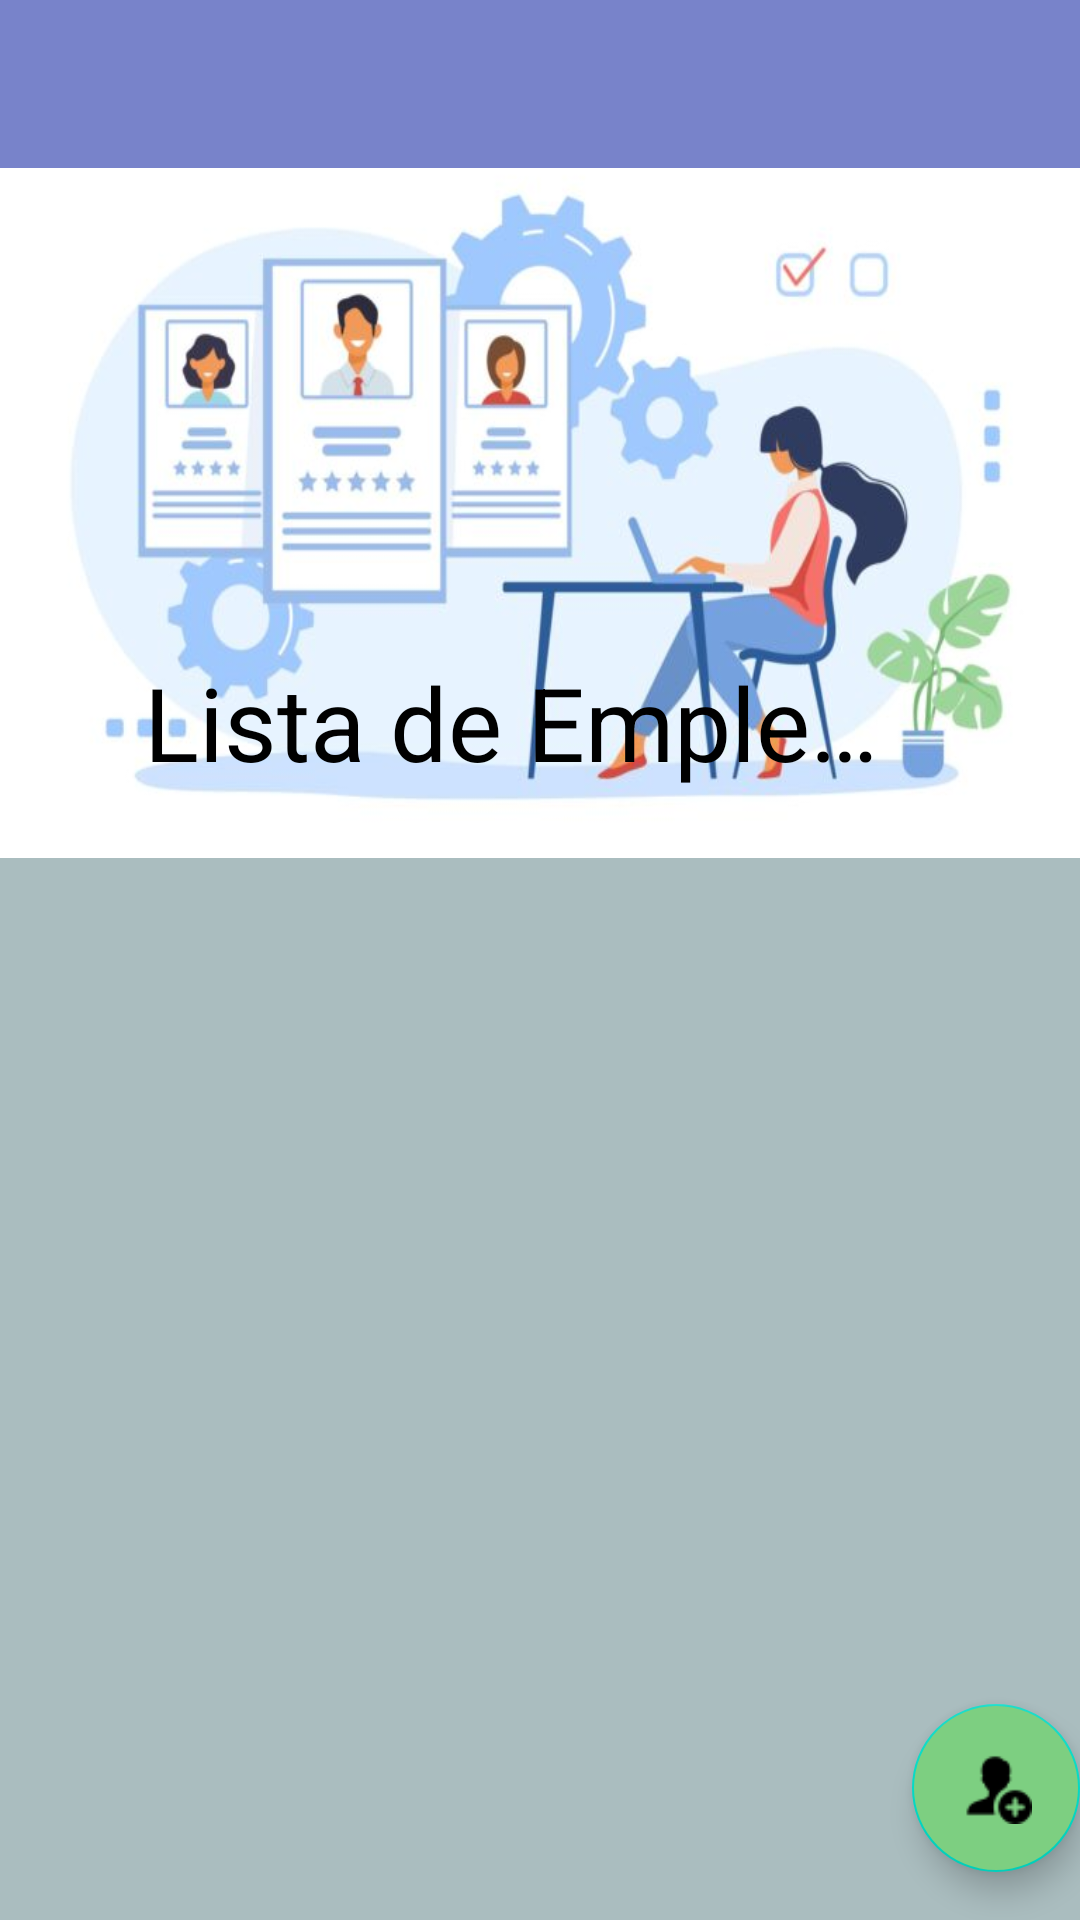

Named icons in this screenshot (1080x1920) and their bounding boxes, (x1, y1, x2, y2):
Registrar Empleado: (912, 1704, 1080, 1872)
